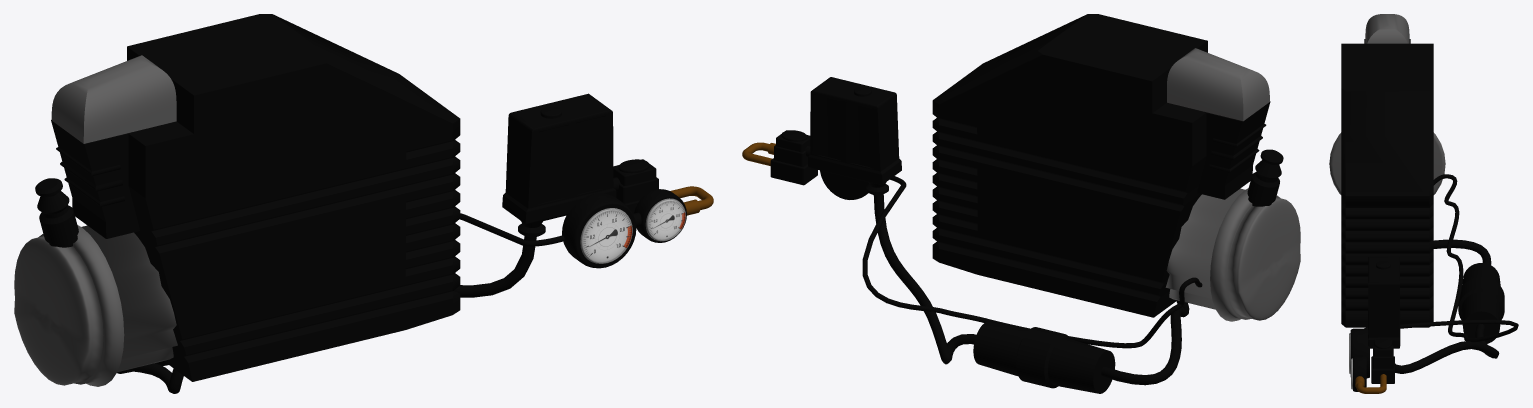
File: 空压机黑色电机.glb
3 renders of one model, left to right at view 1: azimuth 30°, elevation 25°; view 2: azimuth 150°, elevation 25°; view 3: azimuth 270°, elevation 25°, orthographic. The views are drawn at different scales.
Visible parts, largest first — view 1: 黑色电机.001; view 2: 黑色电机.001; view 3: 黑色电机.001.
Boxes of the visible parts, x1=… form: 黑色电机.001: x1=14, y1=14, x2=713, y2=393; 黑色电机.001: x1=742, y1=14, x2=1300, y2=393; 黑色电机.001: x1=1329, y1=14, x2=1518, y2=393.
Size of the model in its own units: 0.7321 by 0.4019 by 0.2652.
5 materials, 1 textured.
